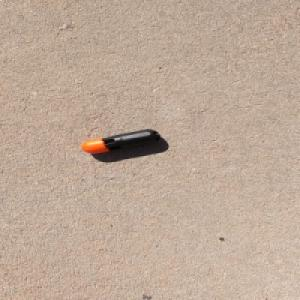PlasticPart: (80, 128, 160, 153)
